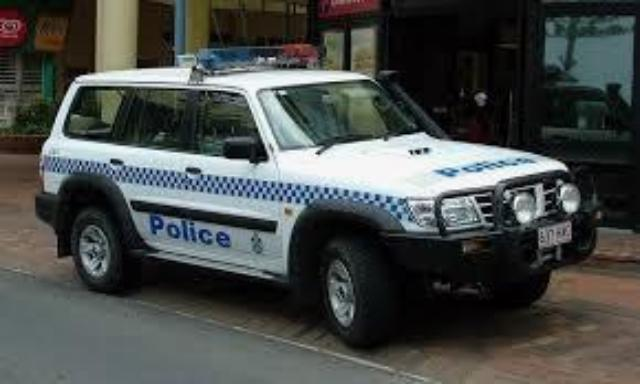police_car: (35, 46, 589, 342)
